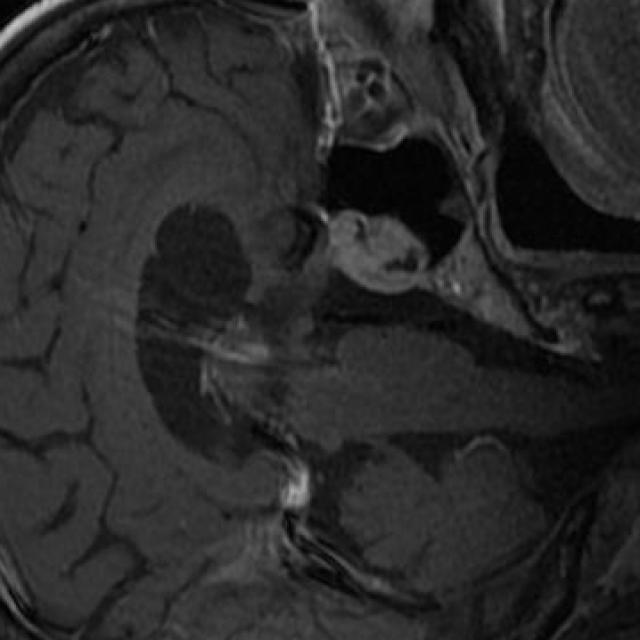pituitary: (330, 210, 430, 294)
